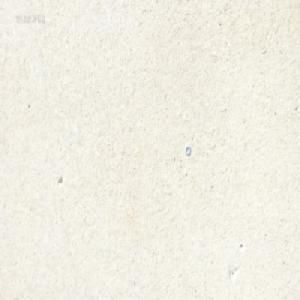Washer: (184, 145, 191, 156)
